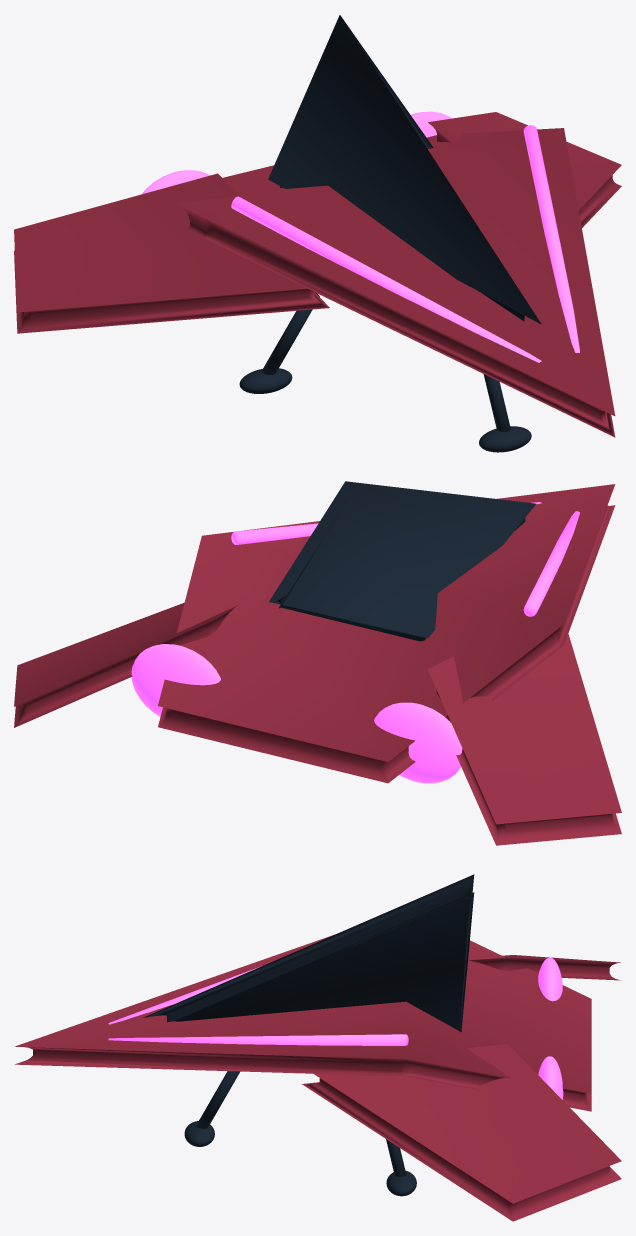
Rendered from Alien-3.glb.
3 views of the same model, one above another, from view 1: azimuth 30°, elevation 25°; view 2: azimuth 150°, elevation 25°; view 3: azimuth 270°, elevation 25° (orthographic). The views are drawn at different scales.
Parts seen in each view (by area): view 1: Crimson Ceramic, Window Graphite, Prism Violet; view 2: Crimson Ceramic, Window Graphite, Prism Violet; view 3: Crimson Ceramic, Window Graphite, Prism Violet.
Part boxes in pixels (bbox=[...]): Crimson Ceramic: bbox=[14, 112, 621, 437]; Window Graphite: bbox=[239, 15, 541, 452]; Prism Violet: bbox=[142, 111, 579, 362]; Crimson Ceramic: bbox=[14, 484, 621, 845]; Window Graphite: bbox=[269, 481, 535, 641]; Prism Violet: bbox=[131, 502, 579, 783]; Crimson Ceramic: bbox=[15, 934, 621, 1221]; Window Graphite: bbox=[143, 874, 474, 1196]; Prism Violet: bbox=[108, 957, 563, 1099].
Size of the model in its own units: 65.63 by 32.78 by 67.74.
